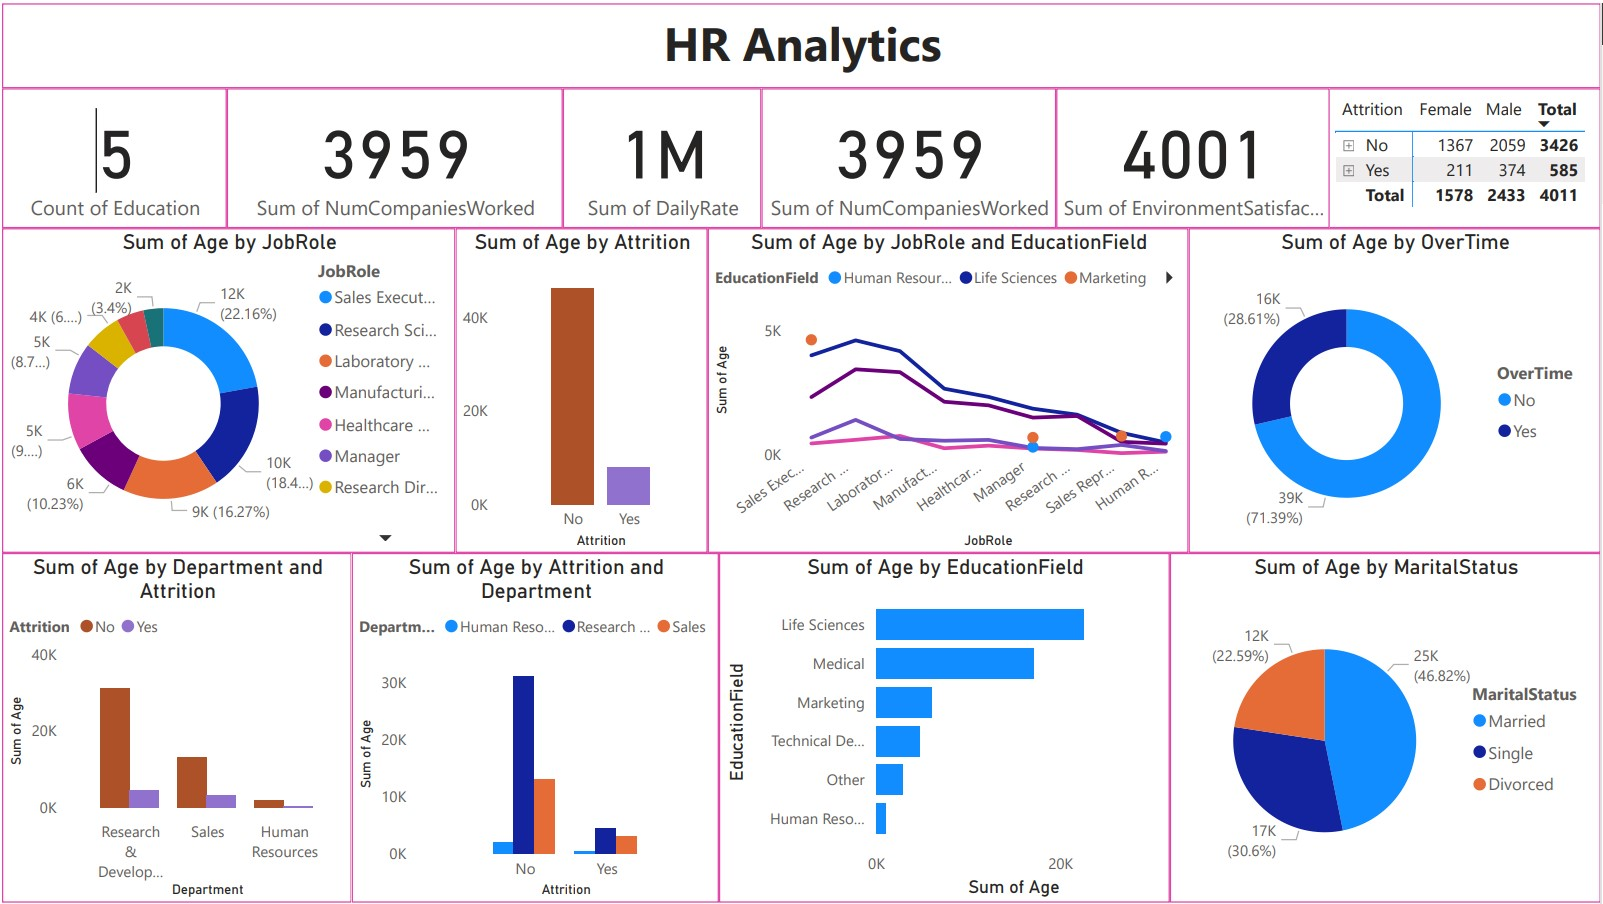

Layout of this report page (visuals, bound fields, positions):
{"tool":"powerbi","page":{"name":"Page 1","canvas":[1280,720],"ordinal":0},"visuals":[{"type":"clusteredColumnChart","fields":{"Category":["HR-Employee-Attrition.Attrition"],"Y":["Sum(HR-Employee-Attrition.Age)"]},"box":[362.5,180,202.5,260],"z":0},{"type":"clusteredBarChart","fields":{"Category":["HR-Employee-Attrition.EducationField"],"Y":["Sum(HR-Employee-Attrition.Age)"]},"box":[573.8,440,361.2,280],"z":1000},{"type":"pieChart","fields":{"Category":["HR-Employee-Attrition.MaritalStatus"],"Y":["Sum(HR-Employee-Attrition.Age)"]},"box":[935,440,345,280],"z":2000},{"type":"donutChart","fields":{"Category":["HR-Employee-Attrition.JobRole"],"Y":["Sum(HR-Employee-Attrition.Age)"]},"box":[0,180,362.5,260],"z":3000},{"type":"clusteredColumnChart","fields":{"Category":["HR-Employee-Attrition.Department"],"Series":["HR-Employee-Attrition.Attrition"],"Y":["Sum(HR-Employee-Attrition.Age)"]},"box":[0,440,280,280],"z":4000},{"type":"textbox","box":[0,0,1280,67.5],"z":5000},{"type":"donutChart","fields":{"Category":["HR-Employee-Attrition.OverTime"],"Y":["Sum(HR-Employee-Attrition.Age)"]},"box":[950,180,330,260],"z":6000},{"type":"clusteredColumnChart","fields":{"Category":["HR-Employee-Attrition.Attrition","HR-Employee-Attrition.Over18"],"Series":["HR-Employee-Attrition.Department"],"Y":["Sum(HR-Employee-Attrition.Age)"]},"box":[280,440,293.8,280],"z":7000},{"type":"pivotTable","fields":{"Rows":["HR-Employee-Attrition.Attrition","HR-Employee-Attrition.MaritalStatus"],"Columns":["HR-Employee-Attrition.Gender"],"Values":["Sum(HR-Employee-Attrition.JobSatisfaction)"]},"box":[1061.7,67.7,218.6,112.8],"z":8000},{"type":"lineChart","fields":{"Category":["HR-Employee-Attrition.JobRole"],"Series":["HR-Employee-Attrition.EducationField"],"Y":["Sum(HR-Employee-Attrition.Age)"]},"box":[565,180,385,260],"z":9000},{"type":"card","fields":{"Values":["Sum(HR-Employee-Attrition.DailyRate)"]},"box":[448.8,67.5,158.8,112.5],"z":10000},{"type":"card","fields":{"Values":["Count(HR-Employee-Attrition.Education)"]},"box":[0,67.5,180,112.5],"z":11000},{"type":"card","fields":{"Values":["Sum(HR-Employee-Attrition.NumCompaniesWorked)"]},"box":[180,67.5,268.8,112.5],"z":12000},{"type":"card","fields":{"Values":["Sum(HR-Employee-Attrition.EnvironmentSatisfaction)"]},"box":[843.8,67.5,218.8,112.5],"z":13000},{"type":"card","fields":{"Values":["Sum(HR-Employee-Attrition.NumCompaniesWorked)"]},"box":[607.5,67.5,236.2,112.5],"z":14000}]}

Visuals, with their boxes in screenshot pixels (x1, y1, x2, y2), scaled from the page's 1280x720 canvas onto the 1603x904 screenshot:
clusteredColumnChart - HR-Employee-Attrition.Attrition x Sum(HR-Employee-Attrition.Age): box=[454, 226, 708, 552]
clusteredBarChart - HR-Employee-Attrition.EducationField x Sum(HR-Employee-Attrition.Age): box=[719, 552, 1171, 903]
pieChart - HR-Employee-Attrition.MaritalStatus x Sum(HR-Employee-Attrition.Age): box=[1171, 552, 1602, 903]
donutChart - HR-Employee-Attrition.JobRole x Sum(HR-Employee-Attrition.Age): box=[0, 226, 454, 552]
clusteredColumnChart - HR-Employee-Attrition.Department x HR-Employee-Attrition.Attrition: box=[0, 552, 351, 903]
textbox: box=[0, 0, 1602, 85]
donutChart - HR-Employee-Attrition.OverTime x Sum(HR-Employee-Attrition.Age): box=[1190, 226, 1602, 552]
clusteredColumnChart - HR-Employee-Attrition.Attrition x HR-Employee-Attrition.Over18: box=[351, 552, 719, 903]
pivotTable - HR-Employee-Attrition.Attrition x HR-Employee-Attrition.MaritalStatus: box=[1330, 85, 1602, 227]
lineChart - HR-Employee-Attrition.JobRole x HR-Employee-Attrition.EducationField: box=[708, 226, 1190, 552]
card - Sum(HR-Employee-Attrition.DailyRate): box=[562, 85, 761, 226]
card - Count(HR-Employee-Attrition.Education): box=[0, 85, 225, 226]
card - Sum(HR-Employee-Attrition.NumCompaniesWorked): box=[225, 85, 562, 226]
card - Sum(HR-Employee-Attrition.EnvironmentSatisfaction): box=[1057, 85, 1331, 226]
card - Sum(HR-Employee-Attrition.NumCompaniesWorked): box=[761, 85, 1057, 226]
